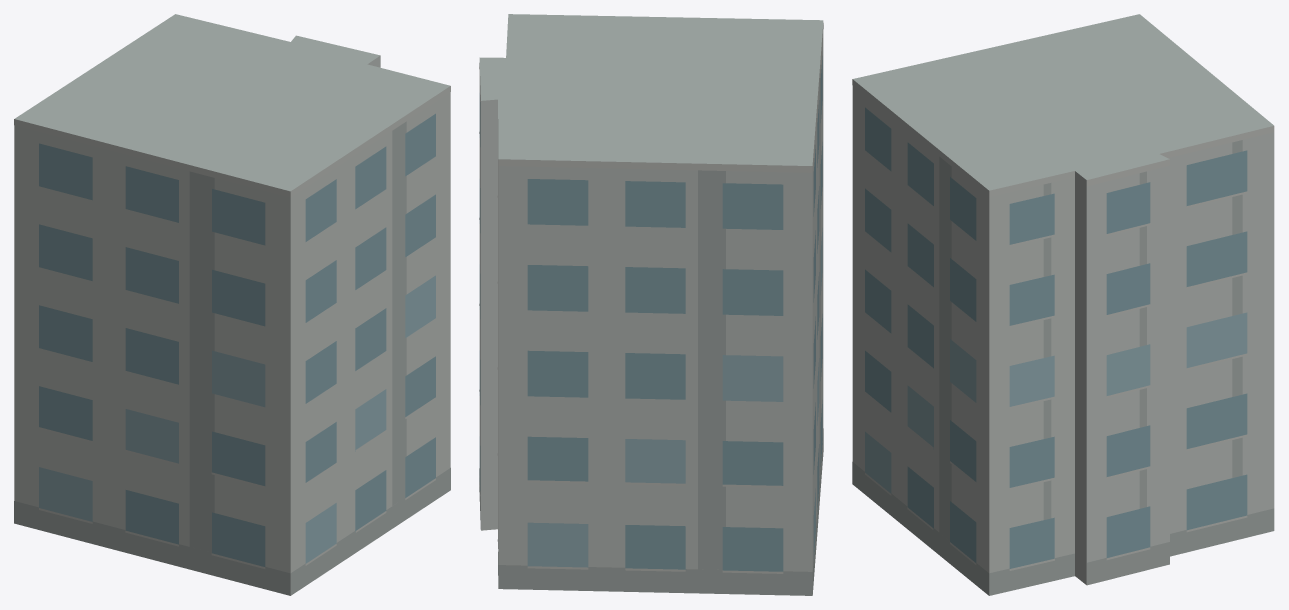
Rendered from survey-upis-32833022.glb.
3 renders of one model, left to right at view 1: azimuth 30°, elevation 25°; view 2: azimuth 150°, elevation 25°; view 3: azimuth 270°, elevation 25°, orthographic. The views are drawn at different scales.
Parts seen in each view (by area): view 1: survey-upis-32833022.tmp; view 2: survey-upis-32833022.tmp; view 3: survey-upis-32833022.tmp.
Part boxes in pixels (x1,y1,x2,y2): survey-upis-32833022.tmp: [14, 14, 450, 595]; survey-upis-32833022.tmp: [479, 14, 823, 595]; survey-upis-32833022.tmp: [852, 14, 1274, 595].
Bounding box in the file's own units: 14.41 × 15.4 × 14.54.
